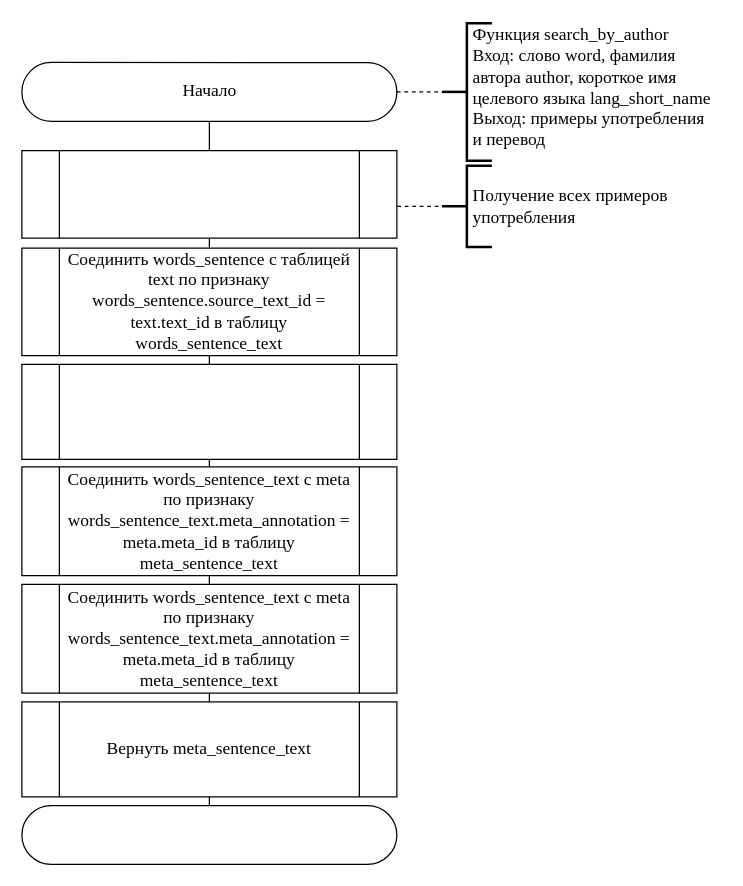
Image size: 743x886. Some labels were removed from this diagram. The centre of each missing label's shape, as x and y in pixels:
"meta = строки таблицы meta_annotation, где meta_annotation.author = author" belongs at (x=209, y=411).
"words_sentence = basic_search(word, lang_short_name);" belongs at (x=209, y=193).
"Конец" belongs at (x=209, y=834).
